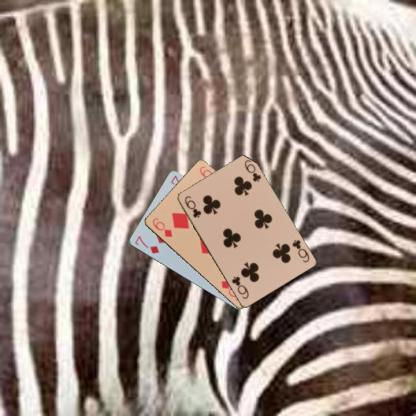6c: (182, 193, 203, 219), (290, 237, 310, 263)
6d: (150, 215, 173, 239)
7d: (132, 233, 160, 255)
